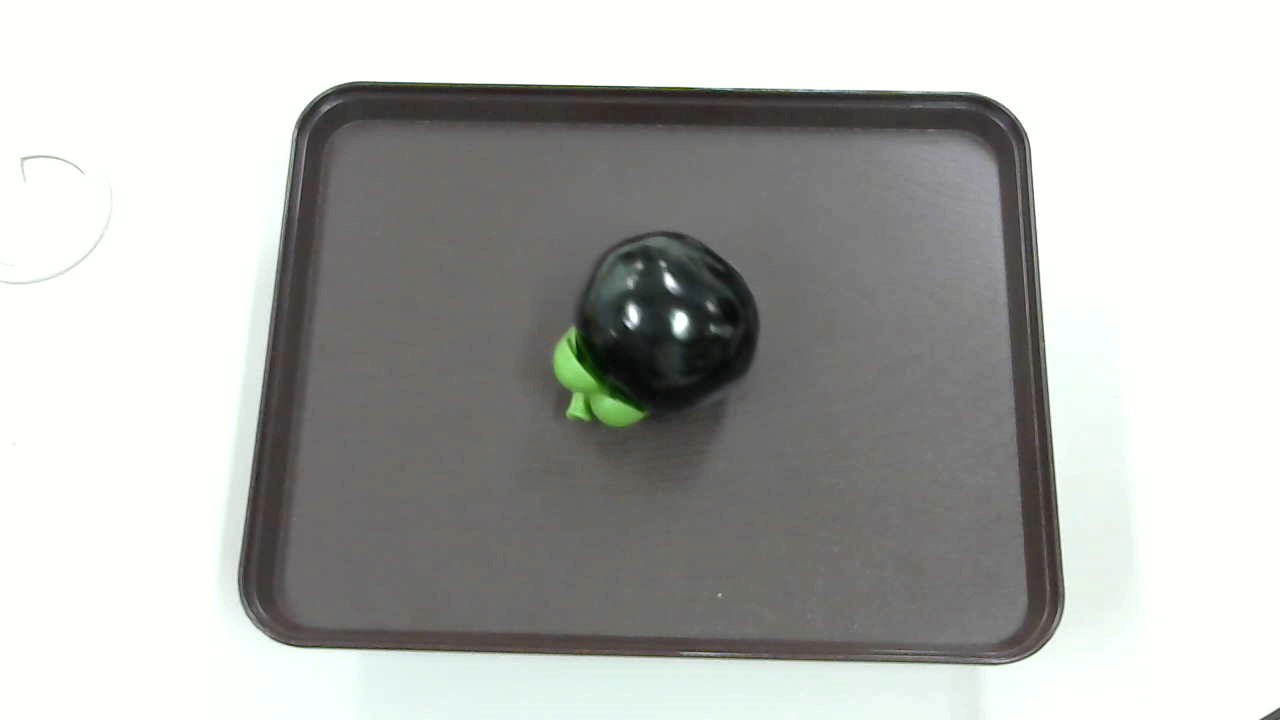mangosteen: (540, 224, 778, 442)
